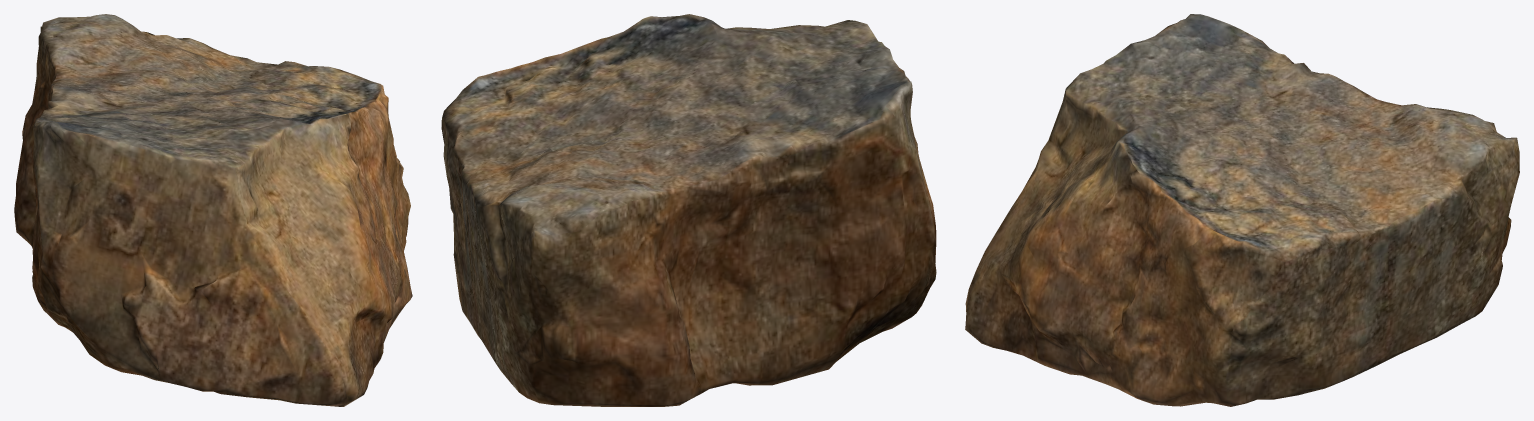
File: namaqualand_boulder_03.glb
3 views of the same model, side by side, from view 1: azimuth 30°, elevation 25°; view 2: azimuth 150°, elevation 25°; view 3: azimuth 270°, elevation 25° (orthographic). The views are drawn at different scales.
Parts seen in each view (by area): view 1: boulder_03_LOD0; view 2: boulder_03_LOD0; view 3: boulder_03_LOD0.
Boxes of the visible parts, <box> form: boulder_03_LOD0: <box>14,14,412,406</box>; boulder_03_LOD0: <box>441,14,936,406</box>; boulder_03_LOD0: <box>965,14,1519,406</box>.
Bounding box in the file's own units: 2.4 × 1.47 × 3.05.
Materials: 1 (1 with a texture image).
